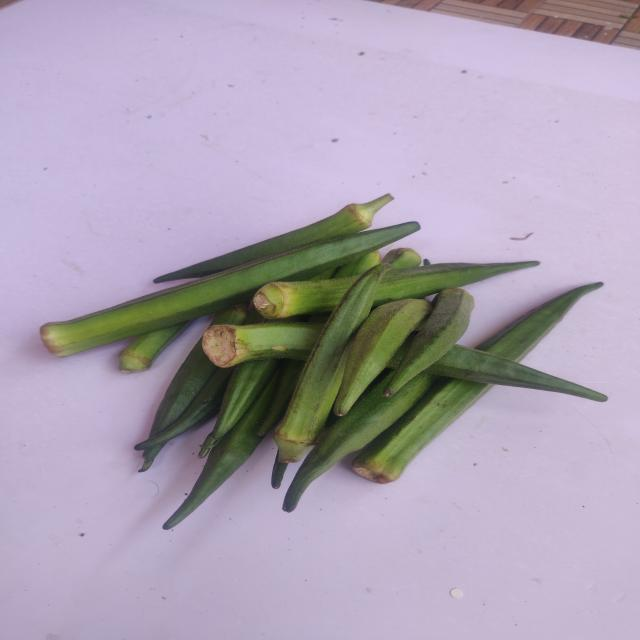Ladies Finger: (39, 221, 419, 357), (273, 263, 392, 464), (153, 193, 394, 283), (352, 378, 493, 484), (333, 299, 433, 416), (477, 282, 603, 362), (383, 288, 474, 397)
